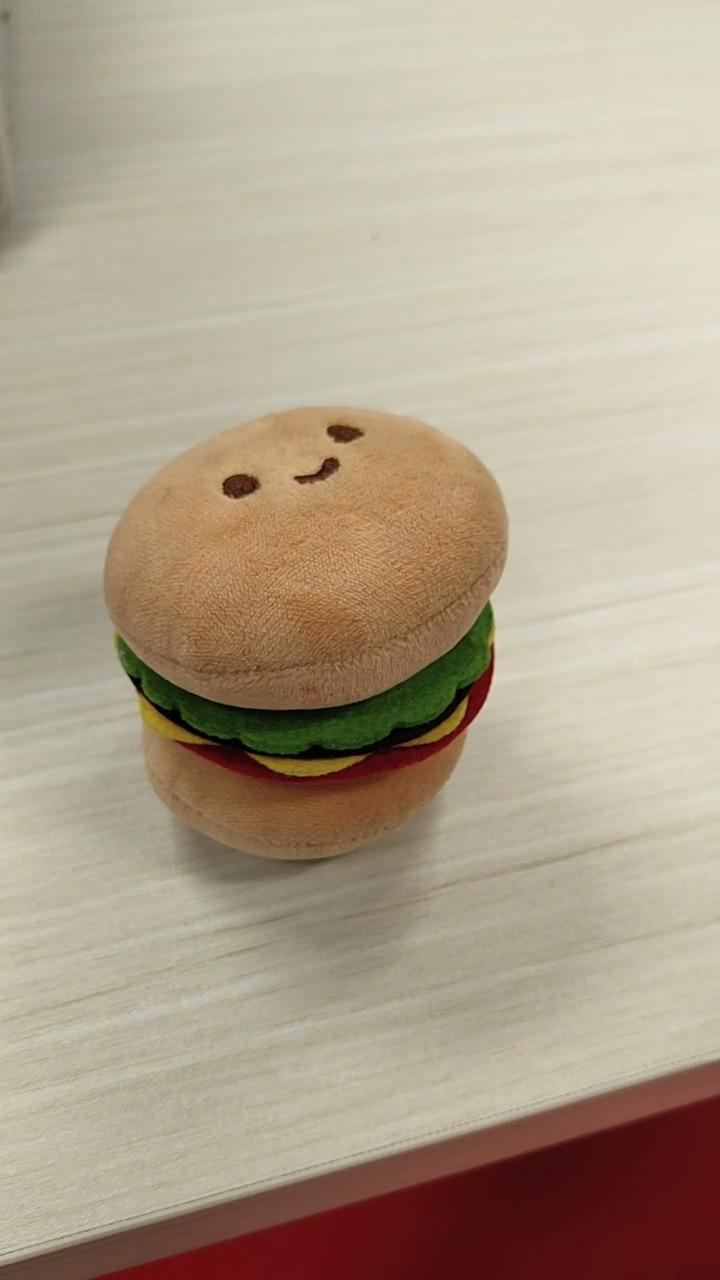hamburger: (102, 403, 509, 863)
